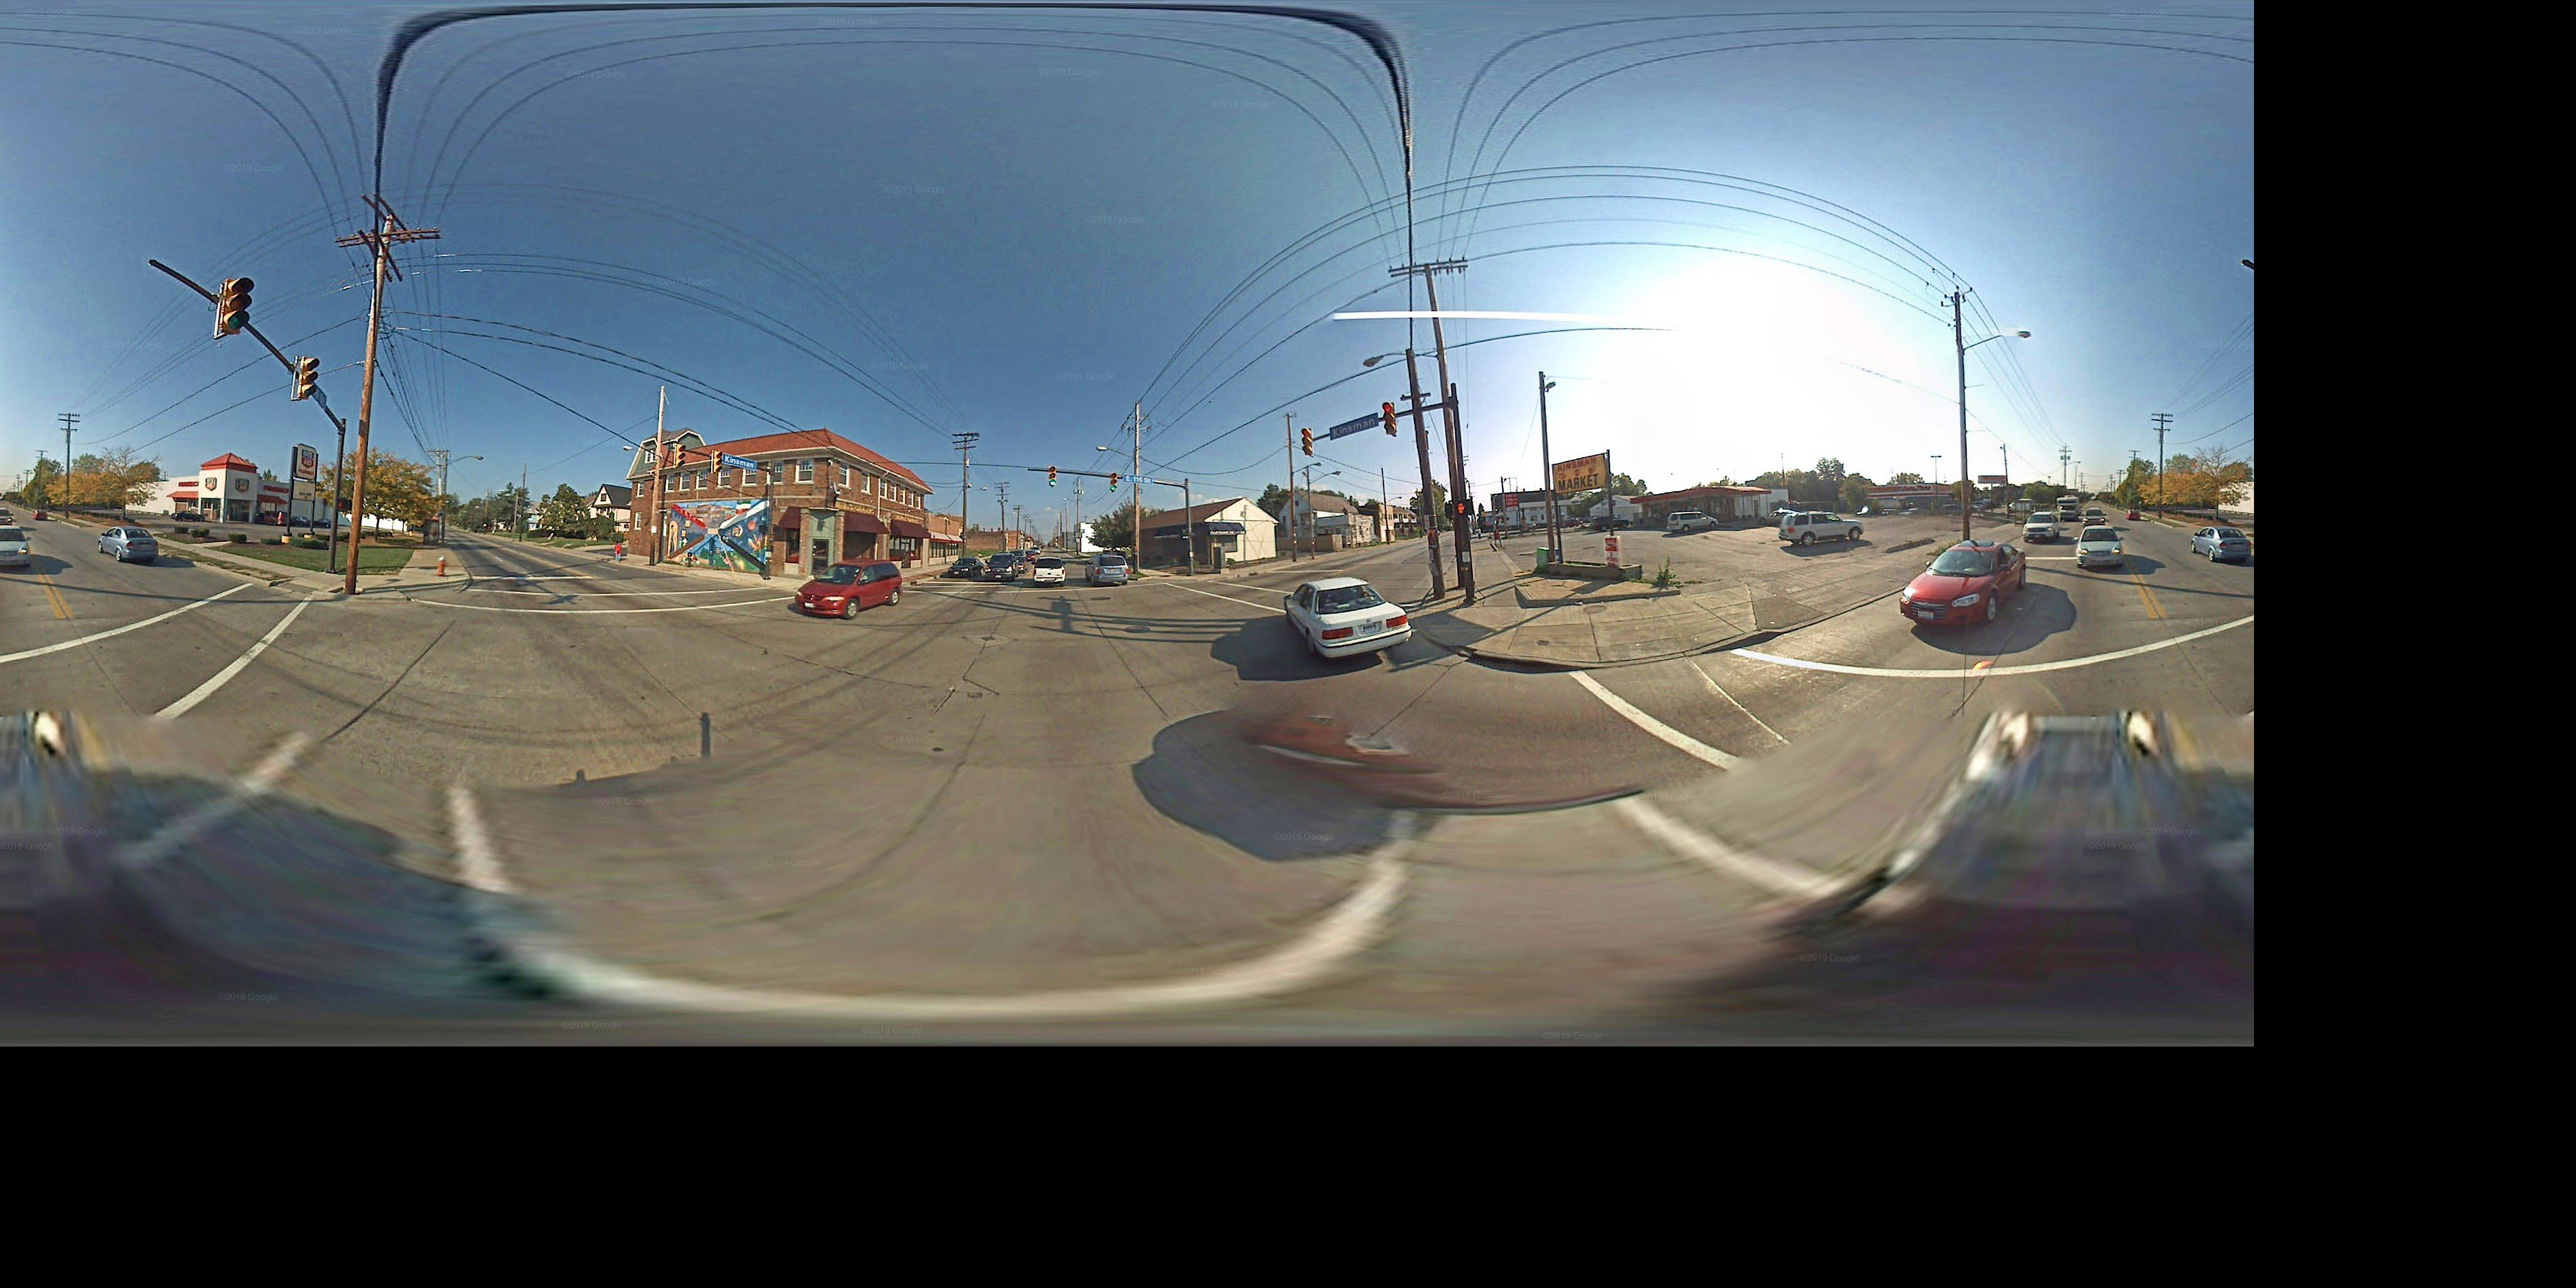Curb Ramp: (1548, 608, 1733, 701), (268, 565, 322, 609), (393, 577, 467, 608), (1135, 568, 1206, 591), (1406, 601, 1451, 632)
